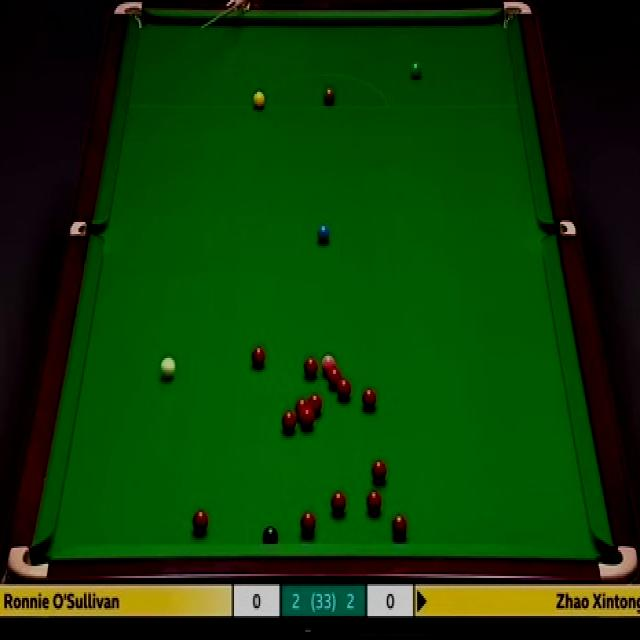black-ball: (266, 528, 282, 544)
blue-ball: (316, 225, 331, 242)
brown-ball: (324, 88, 335, 106)
green-ball: (409, 62, 421, 78)
pink-ball: (321, 354, 336, 374)
red-ball: (392, 512, 409, 538), (331, 489, 347, 516), (370, 460, 387, 485), (192, 511, 209, 534), (367, 490, 382, 514), (301, 358, 319, 378), (281, 409, 296, 433), (335, 377, 351, 399), (251, 343, 266, 366), (362, 387, 377, 410), (310, 392, 326, 413), (300, 511, 316, 531), (296, 398, 309, 418), (301, 408, 314, 428), (328, 367, 342, 385)
white-ball: (158, 354, 174, 381)
yellow-ball: (253, 90, 265, 110)
